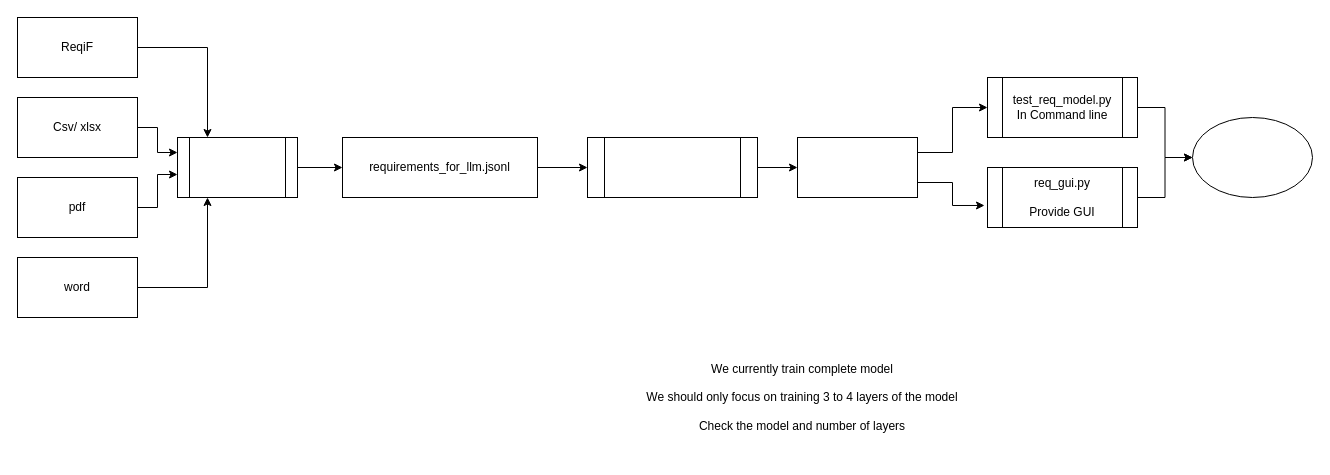
The diagram is 1330 pixels wide and 475 high, and some of its shapes have lost their labels. Each missing label, with the box of its shape:
bert_req_eval_model: (796, 136, 918, 198)
Prediction: (1192, 116, 1312, 198)
req_ti_jsonl.py: (176, 136, 298, 198)
train_req_model.py: (586, 136, 758, 198)
